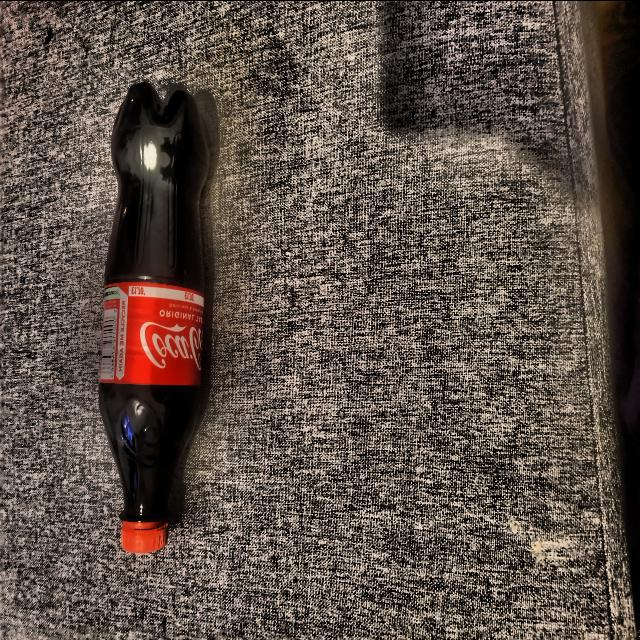coke-bottle: (101, 68, 212, 558)
